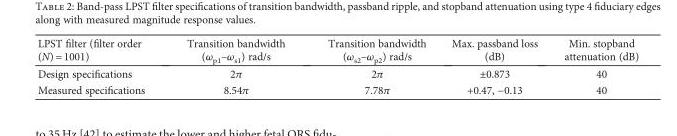table: (36, 36, 638, 97)
table column: (165, 36, 305, 97), (305, 36, 438, 97), (36, 36, 165, 97), (438, 36, 550, 97), (550, 36, 638, 97)
table column header: (36, 36, 638, 64)
table row: (36, 36, 638, 64), (36, 64, 638, 82), (36, 82, 638, 97)
